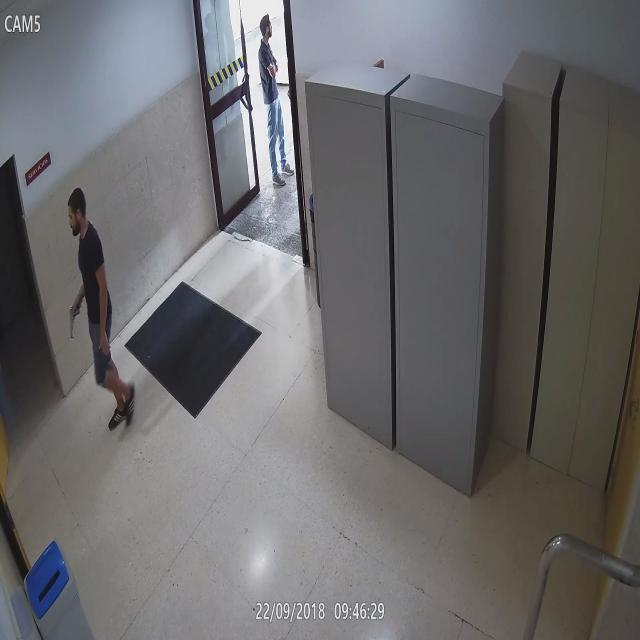weapon: (64, 307, 80, 339)
